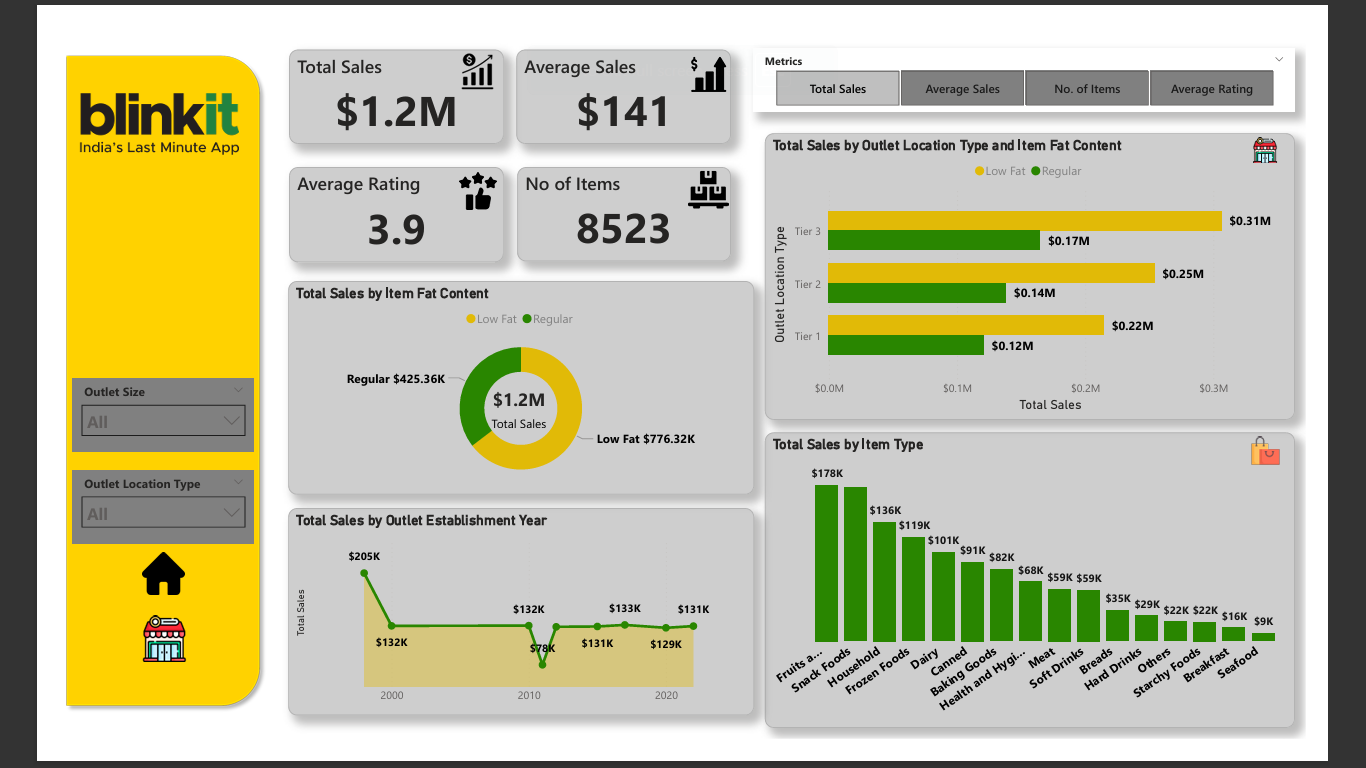

Layout of this report page (visuals, bound fields, positions):
{"tool":"powerbi","page":{"name":"Home","canvas":[1400,800],"ordinal":0},"visuals":[{"type":"shape","box":[0,24.4,235.4,747.9],"z":0},{"type":"image","box":[18.4,60.6,189.2,97.4],"z":1000},{"type":"card","title":"Total Sales","fields":{"Values":["Measures (2).Total Sales"]},"box":[259.1,25.7,240.7,106.6],"z":2000},{"type":"card","title":"No of Items","fields":{"Values":["Measures (2).No. of Items"]},"box":[514.5,157.7,240.7,106.2],"z":3000},{"type":"card","title":"Average Sales","fields":{"Values":["Measures (2).Average Sales"]},"box":[514.4,25.7,240.7,106.6],"z":4000},{"type":"card","title":"Average Rating","fields":{"Values":["Measures (2).Average Rating"]},"box":[259.1,158,240.7,106.6],"z":5000},{"type":"image","box":[441.5,24.9,58.1,51.5],"z":6000},{"type":"image","box":[700.4,28.2,58.1,51.5],"z":7000},{"type":"image","box":[441.5,159.3,58.1,51.5],"z":8000},{"type":"image","box":[700.4,156,58.1,54.8],"z":9000},{"type":"donutChart","fields":{"Y":["Measures (2).Total Sales"],"Category":["BlinkIT Grocery Data.Item Fat Content"]},"box":[258.5,286.2,522.2,239.4],"z":10000},{"type":"slicer","fields":{"Values":["Metrics.Metrics"]},"box":[780.1,24.9,607.5,71.4],"z":11000},{"type":"card","fields":{"Values":["Measures (2).Total Sales"]},"box":[470.1,400.7,93.7,55.5],"z":12000},{"type":"clusteredBarChart","fields":{"Y":["Measures (2).Total Sales"],"Category":["BlinkIT Grocery Data.Outlet Location Type"],"Series":["BlinkIT Grocery Data.Item Fat Content"]},"box":[792.8,119.7,595,322.7],"z":13000},{"type":"clusteredColumnChart","fields":{"Y":["Measures (2).Total Sales"],"Category":["BlinkIT Grocery Data.Item Type"]},"box":[792.8,456.3,595,331.4],"z":14000},{"type":"image","box":[1321.2,456.4,66.4,41.5],"z":15000},{"type":"image","box":[1321.2,119.5,66.4,39.8],"z":16000},{"type":"lineChart","fields":{"Category":["BlinkIT Grocery Data.Outlet Establishment Year"],"Y":["Measures (2).Total Sales"]},"box":[258.5,541.3,522.2,232.5],"z":17000},{"type":"slicer","fields":{"Values":["BlinkIT Grocery Data.Outlet Location Type"]},"box":[15.7,498.6,204,81.9],"z":17001},{"type":"slicer","fields":{"Values":["BlinkIT Grocery Data.Outlet Size"]},"box":[15.7,395.8,204,81.9],"z":17002},{"type":"image","box":[82.7,656.8,70.8,62],"z":17004},{"type":"image","box":[82.7,586,69.4,57.6],"z":17005}]}

Visuals, with their boxes on the page's 1400x800 design canvas (x1, y1, x2, y2). These are canvas units, not pixel positions in the 1366x768 screenshot, which may show the page scaled, cropped or inside an application window:
shape: (0,24,235,772)
image: (18,61,208,158)
"Total Sales" card: (259,26,500,132)
"No of Items" card: (514,158,755,264)
"Average Sales" card: (514,26,755,132)
"Average Rating" card: (259,158,500,265)
image: (442,25,500,76)
image: (700,28,758,80)
image: (442,159,500,211)
image: (700,156,758,211)
donutChart - Measures (2).Total Sales x BlinkIT Grocery Data.Item Fat Content: (258,286,781,526)
slicer - Metrics.Metrics: (780,25,1388,96)
card - Measures (2).Total Sales: (470,401,564,456)
clusteredBarChart - Measures (2).Total Sales x BlinkIT Grocery Data.Outlet Location Type: (793,120,1388,442)
clusteredColumnChart - Measures (2).Total Sales x BlinkIT Grocery Data.Item Type: (793,456,1388,788)
image: (1321,456,1388,498)
image: (1321,120,1388,159)
lineChart - BlinkIT Grocery Data.Outlet Establishment Year x Measures (2).Total Sales: (258,541,781,774)
slicer - BlinkIT Grocery Data.Outlet Location Type: (16,499,220,580)
slicer - BlinkIT Grocery Data.Outlet Size: (16,396,220,478)
image: (83,657,154,719)
image: (83,586,152,644)
